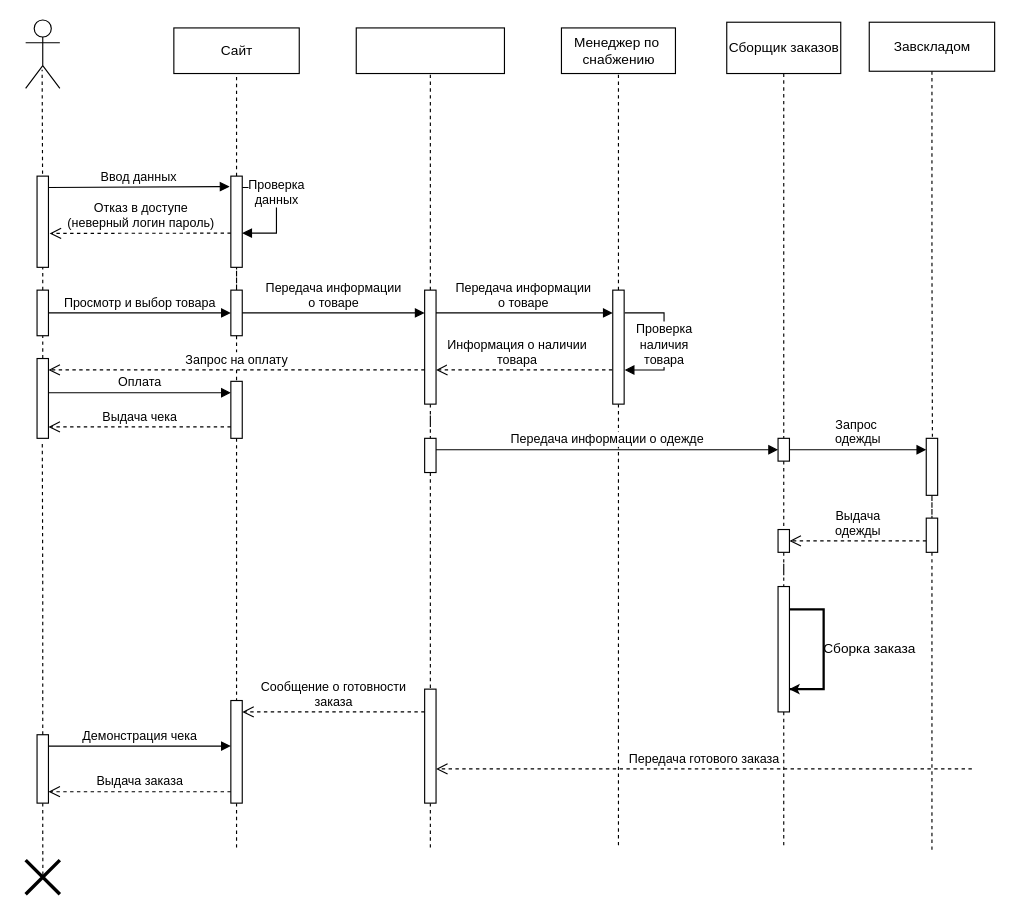
The diagram is 1015 pixels wide and 915 high, and some of its shapes have lost their labels. The shapes that lost their labels are listed below. From the top down, each one's centre as x and y in pixels, then its label:
point (42, 53): Клиент
point (429, 50): Менеджер по работе клиентами
